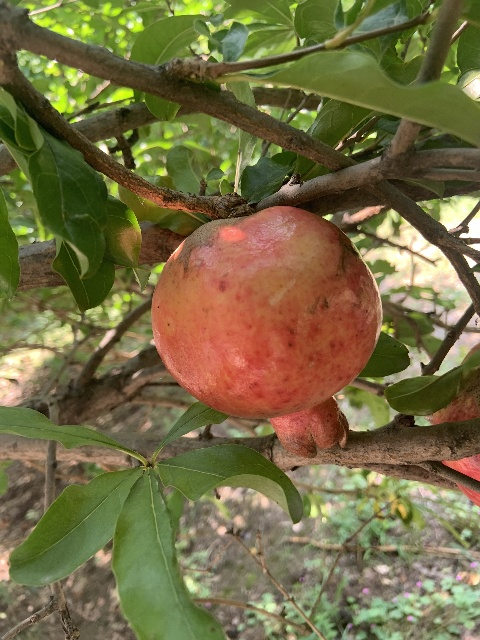ripe: (151, 205, 382, 458), (432, 343, 480, 506)
